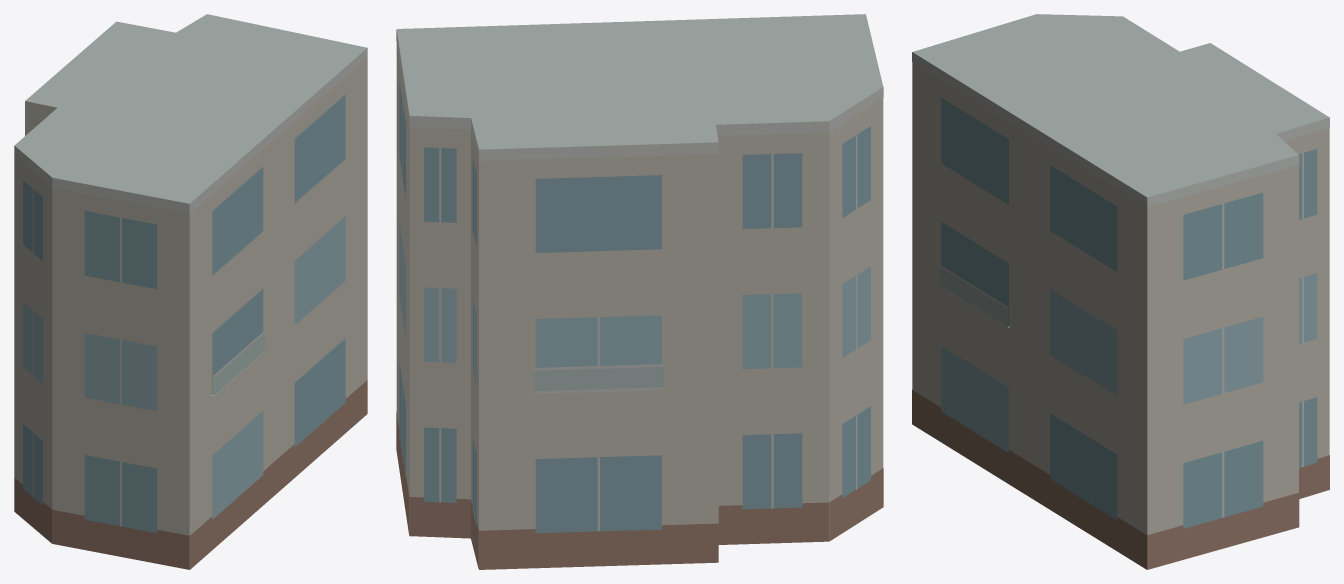
Rendered from survey-upis-32507278.glb.
3 renders of one model, left to right at view 1: azimuth 30°, elevation 25°; view 2: azimuth 150°, elevation 25°; view 3: azimuth 270°, elevation 25°, orthographic. The views are drawn at different scales.
Parts seen in each view (by area): view 1: survey-upis-32507278.tmp; view 2: survey-upis-32507278.tmp; view 3: survey-upis-32507278.tmp.
Part boxes in pixels (box(x1,y1,x2,y2)): survey-upis-32507278.tmp: box(14, 14, 367, 569); survey-upis-32507278.tmp: box(396, 14, 883, 569); survey-upis-32507278.tmp: box(912, 14, 1329, 569).
Bounding box in the file's own units: 9.68 × 9.15 × 9.31.
